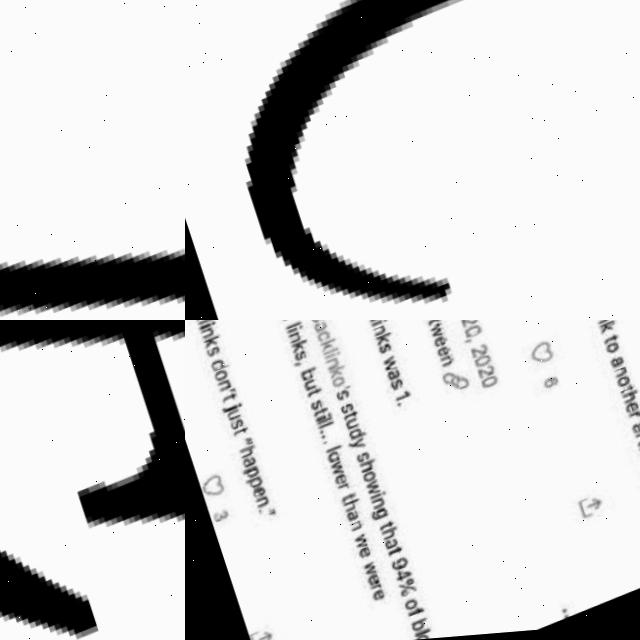0: (480, 380, 500, 396), (464, 328, 482, 344), (474, 358, 492, 373)
1: (394, 394, 411, 406)
2: (469, 347, 489, 364), (477, 370, 497, 385), (459, 320, 479, 333)
3: (213, 509, 229, 523)
4: (393, 571, 413, 588)
6: (542, 381, 560, 397)
9: (389, 561, 409, 577)
A: (608, 363, 626, 378), (312, 322, 328, 337), (383, 541, 399, 556), (385, 372, 401, 386), (345, 512, 361, 526), (242, 457, 258, 471), (629, 427, 640, 442)
B: (410, 622, 430, 637), (300, 369, 318, 385), (310, 320, 328, 326)
C: (239, 0, 487, 314), (315, 331, 331, 346)
D: (209, 357, 230, 373), (347, 429, 367, 444)
E: (623, 408, 640, 423), (333, 474, 349, 489), (371, 592, 387, 607), (252, 487, 268, 502), (433, 340, 449, 354), (436, 348, 452, 362), (357, 550, 373, 564), (367, 575, 383, 589), (423, 320, 439, 324)
F: (406, 611, 426, 626)
G: (369, 511, 391, 526)
H: (380, 530, 400, 546), (621, 396, 640, 412), (359, 462, 377, 477), (343, 502, 361, 517), (239, 446, 257, 461)
I: (369, 493, 388, 505), (323, 353, 341, 365), (315, 414, 332, 426), (370, 321, 388, 331), (287, 327, 303, 337), (200, 321, 216, 331)
J: (0, 0, 185, 320), (221, 402, 243, 415)
K: (598, 327, 619, 342), (328, 368, 348, 383), (374, 336, 394, 351), (319, 340, 338, 355), (291, 341, 309, 356), (203, 335, 221, 350)
L: (321, 349, 339, 359), (285, 322, 301, 332), (325, 447, 341, 457), (414, 631, 430, 640), (317, 420, 333, 428), (319, 424, 335, 432), (368, 320, 386, 327), (197, 320, 213, 327), (282, 320, 298, 324)
N: (255, 497, 271, 512), (348, 522, 364, 536), (372, 328, 387, 342), (324, 360, 339, 374), (288, 333, 303, 347), (200, 327, 215, 341), (217, 379, 232, 393), (613, 374, 627, 387), (440, 360, 454, 373), (371, 501, 385, 514), (596, 320, 610, 332)
O: (403, 602, 420, 617), (616, 382, 632, 397), (213, 369, 229, 384), (604, 350, 620, 364), (330, 378, 346, 392), (326, 453, 342, 467), (362, 474, 376, 487), (414, 637, 430, 640)
P: (242, 466, 260, 481), (246, 478, 264, 493)
R: (336, 485, 351, 496), (627, 418, 640, 429), (371, 586, 384, 596), (635, 438, 640, 448)
S: (376, 346, 393, 360), (293, 351, 310, 365), (335, 391, 351, 405), (339, 405, 355, 419), (355, 454, 371, 468), (229, 418, 245, 432), (205, 345, 221, 359), (388, 381, 404, 395), (311, 401, 325, 413)
T: (602, 341, 619, 353), (379, 523, 396, 535), (306, 389, 323, 401), (340, 494, 357, 506), (231, 427, 248, 439), (426, 320, 443, 330), (619, 392, 634, 403), (344, 413, 359, 424), (313, 410, 328, 421), (222, 393, 237, 404), (387, 550, 402, 560), (635, 443, 640, 456)
U: (302, 381, 318, 395), (345, 420, 359, 433), (226, 409, 240, 422)
W: (381, 358, 399, 379), (365, 481, 381, 501), (329, 461, 345, 481), (362, 563, 378, 582), (430, 326, 446, 344), (353, 537, 369, 555)
Y: (347, 440, 367, 456)
